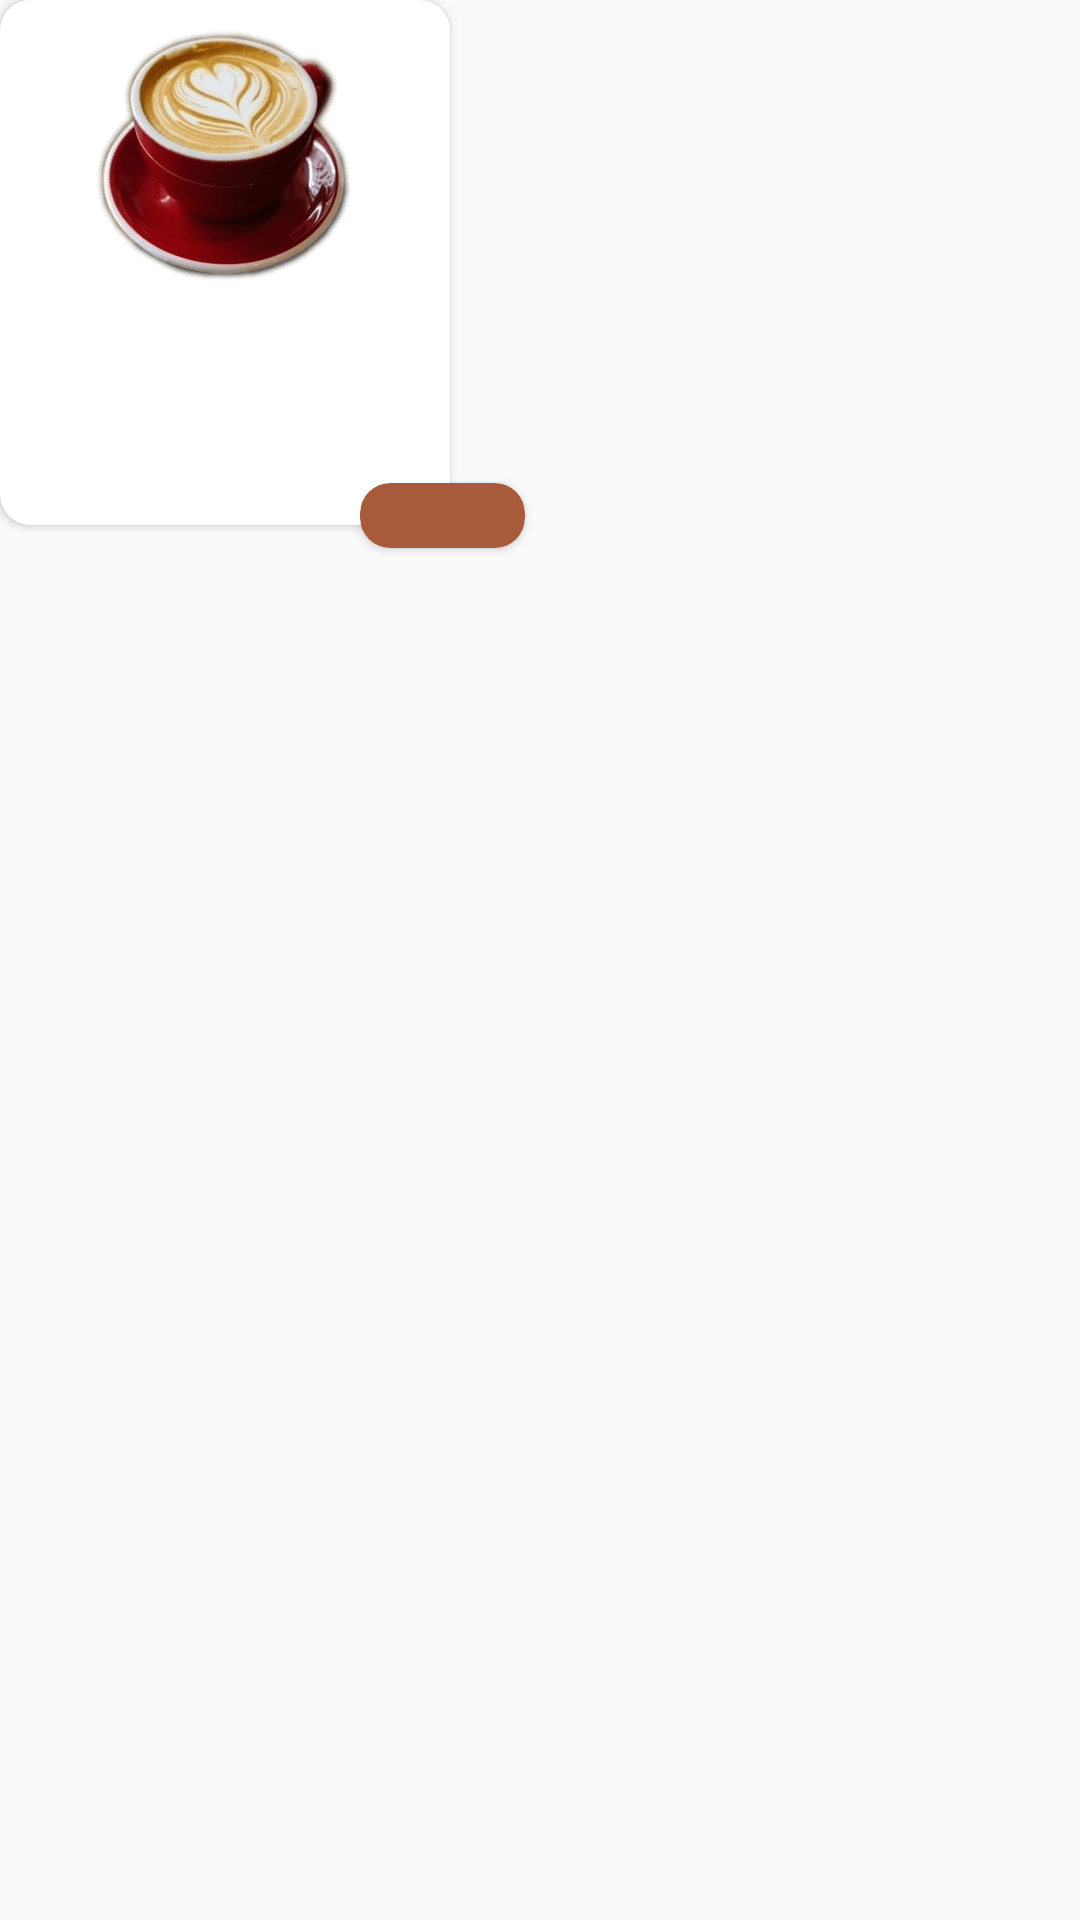

Screen size 1080w x 1920h. Icon name, then its box in pixels as (x1, y1, x2, y2):
coffee image: (99, 33, 349, 278)
